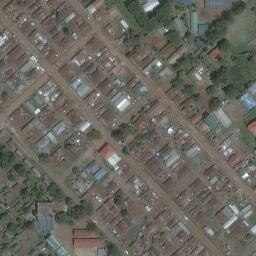tree: (208, 96, 222, 110), (110, 128, 125, 140), (217, 38, 230, 50), (223, 83, 235, 96), (13, 163, 25, 175), (181, 84, 194, 94), (113, 194, 123, 206), (6, 223, 18, 232), (206, 85, 215, 95), (64, 196, 73, 205), (62, 27, 70, 34)
